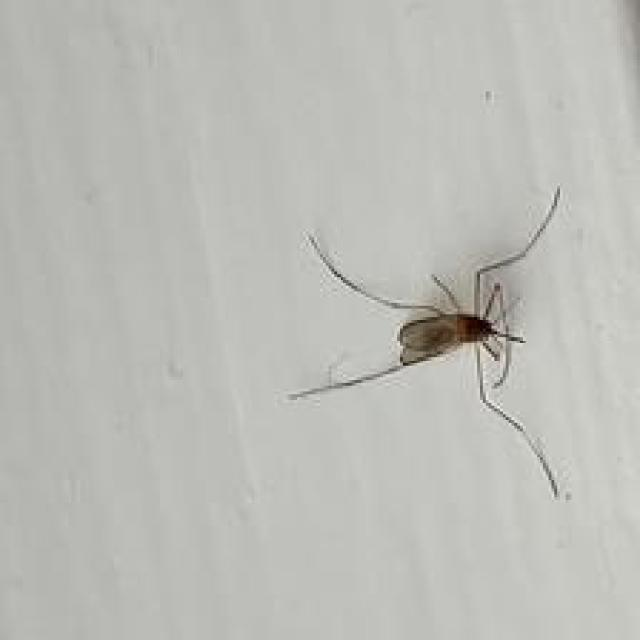Culex: (286, 184, 566, 499)
